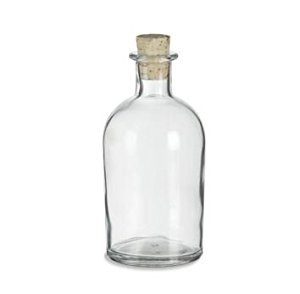emptybottle: (102, 33, 204, 267)
